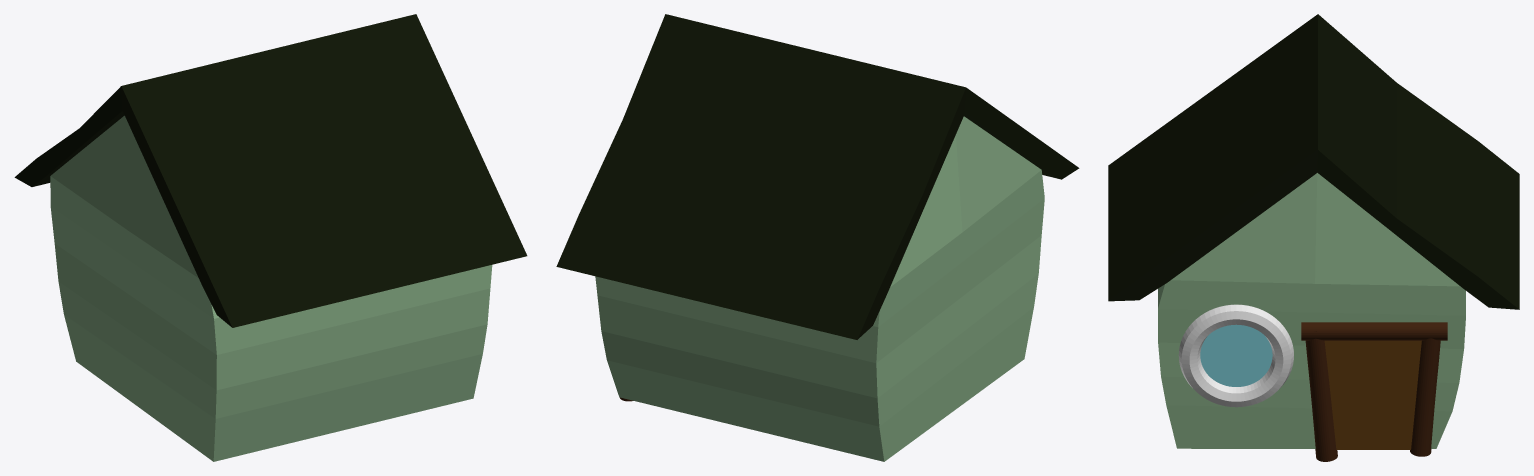
The model's file is HouseNew.fbx.
The picture shows the model from 3 angles, left to right: view 1: azimuth 30°, elevation 25°; view 2: azimuth 150°, elevation 25°; view 3: azimuth 270°, elevation 25°; orthographic projection. The views are drawn at different scales.
Parts seen in each view (by area): view 1: House.001; view 2: House.001; view 3: House.001, Door, Windowsill, DoorFrame.
Boxes of the visible parts, x1,y1,x2,y2 form: House.001: [14, 14, 527, 461]; House.001: [556, 14, 1079, 461]; House.001: [1108, 14, 1519, 448]; Door: [1324, 340, 1421, 449]; Windowsill: [1178, 304, 1293, 407]; DoorFrame: [1301, 322, 1447, 461].
Bounding box in the file's own units: 156 × 169 × 198.
